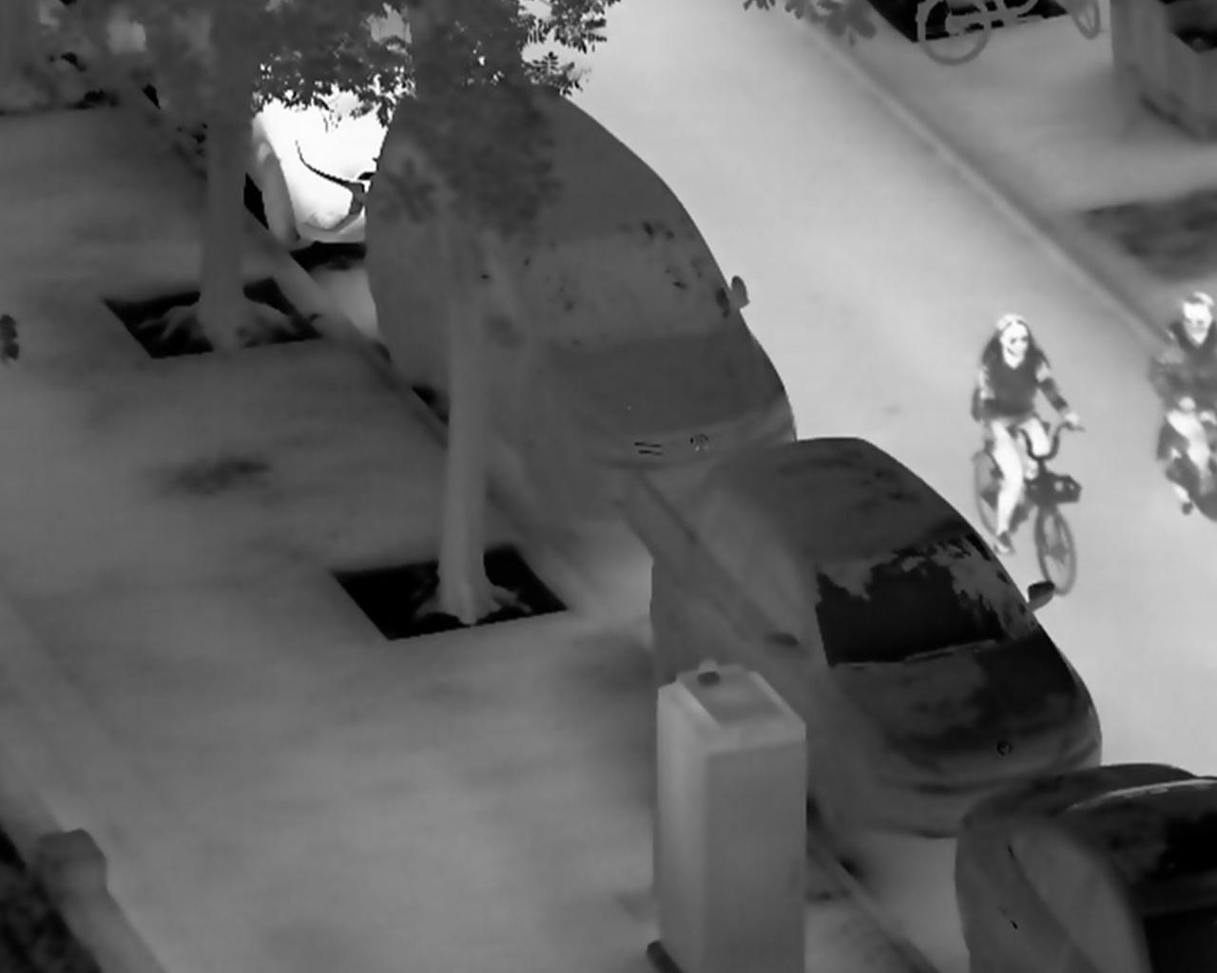person: (968, 314, 1081, 559), (1145, 289, 1217, 505)
